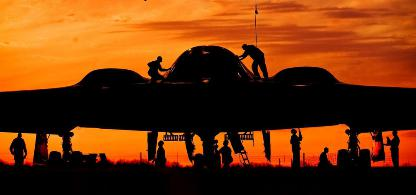B1: (0, 44, 416, 167)
